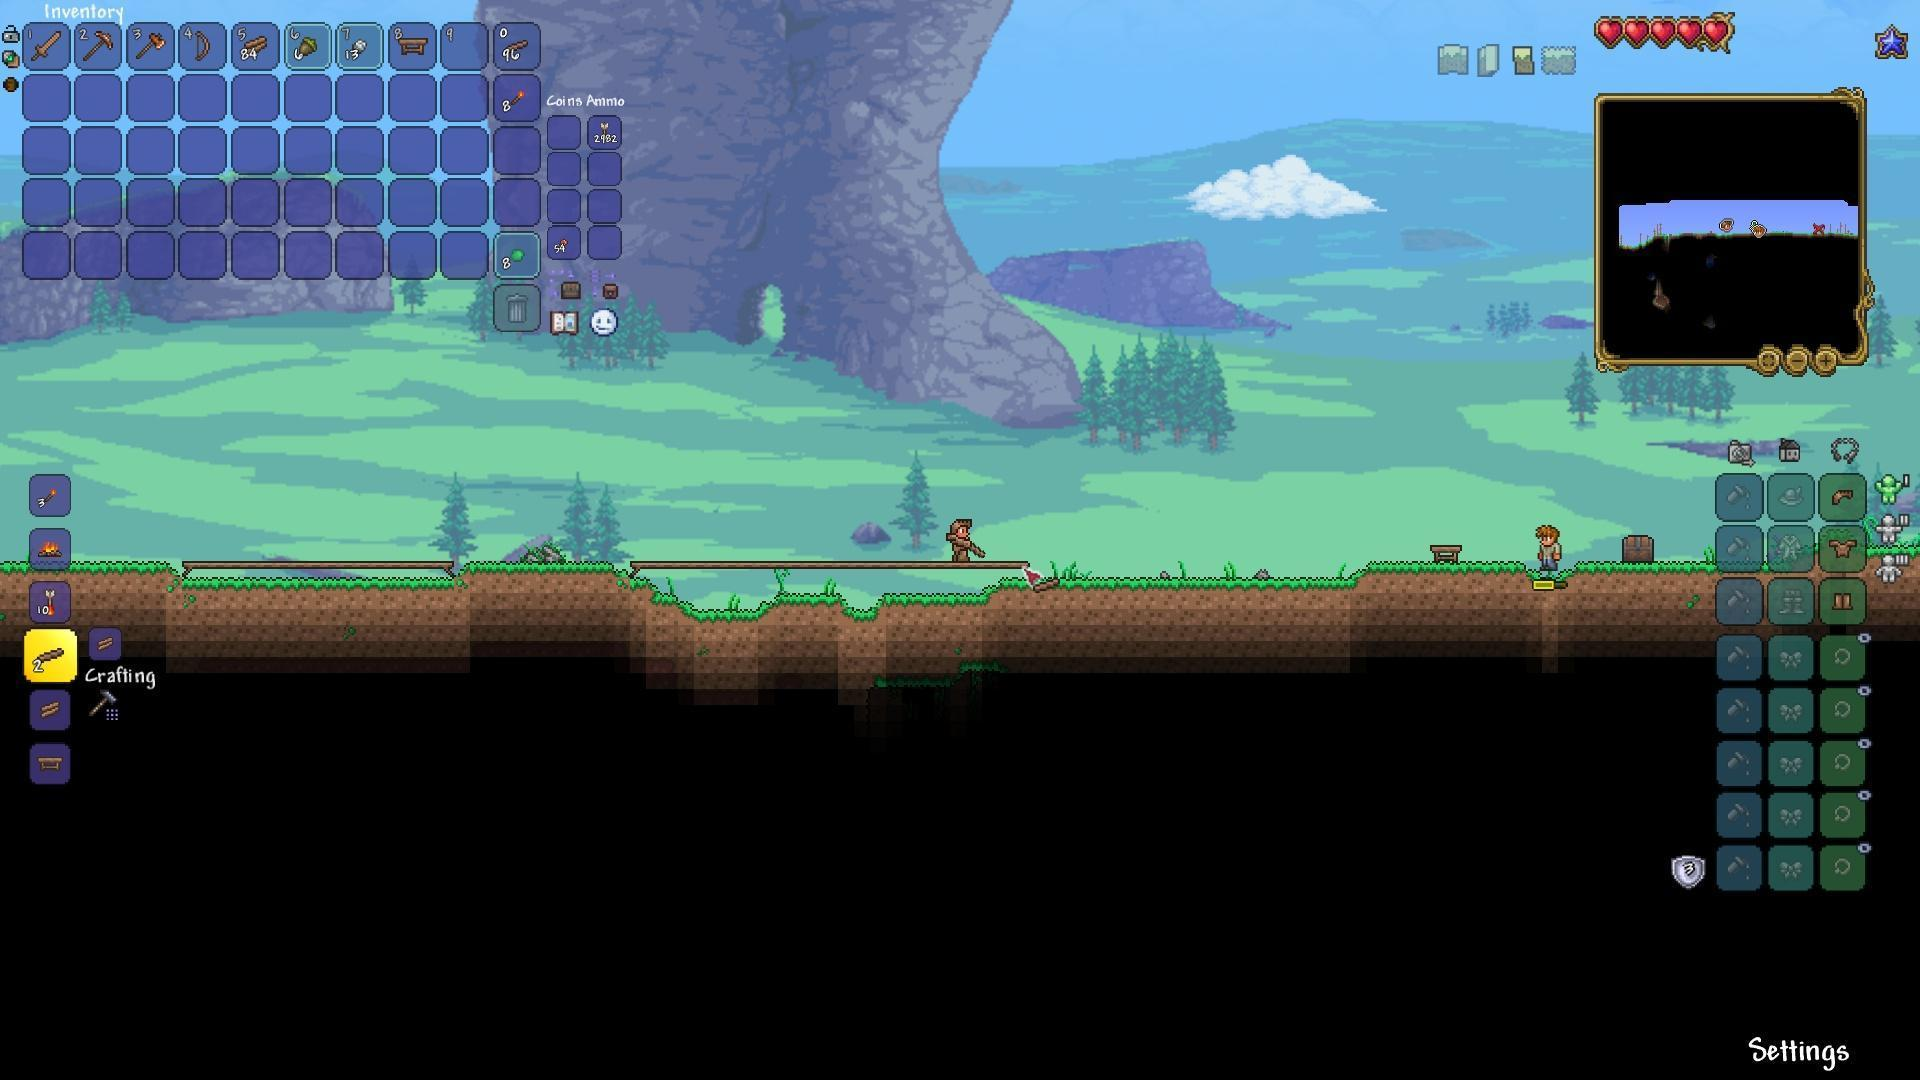breastplate: (1830, 537, 1859, 558)
helmet: (1828, 484, 1858, 509)
legs: (1832, 588, 1857, 616)
wood: (241, 32, 270, 59), (36, 695, 65, 721), (92, 632, 117, 657)
workbench: (1428, 538, 1465, 563), (393, 33, 430, 58), (36, 752, 67, 775)
